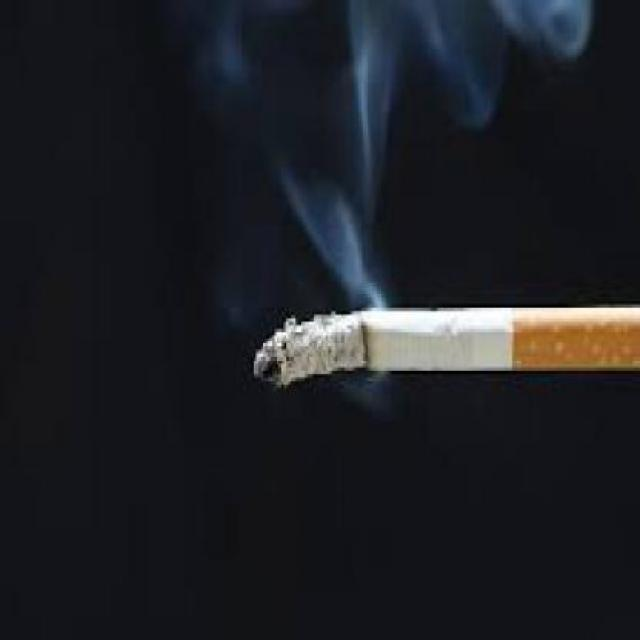cigarette: (245, 283, 637, 423)
